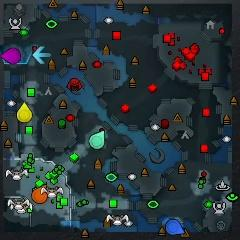p1: (165, 219, 185, 235)
p2: (90, 131, 105, 149)
p3: (0, 47, 22, 64)
p4: (17, 101, 32, 123)
p5: (32, 184, 48, 203)
x3: (33, 46, 52, 65)
